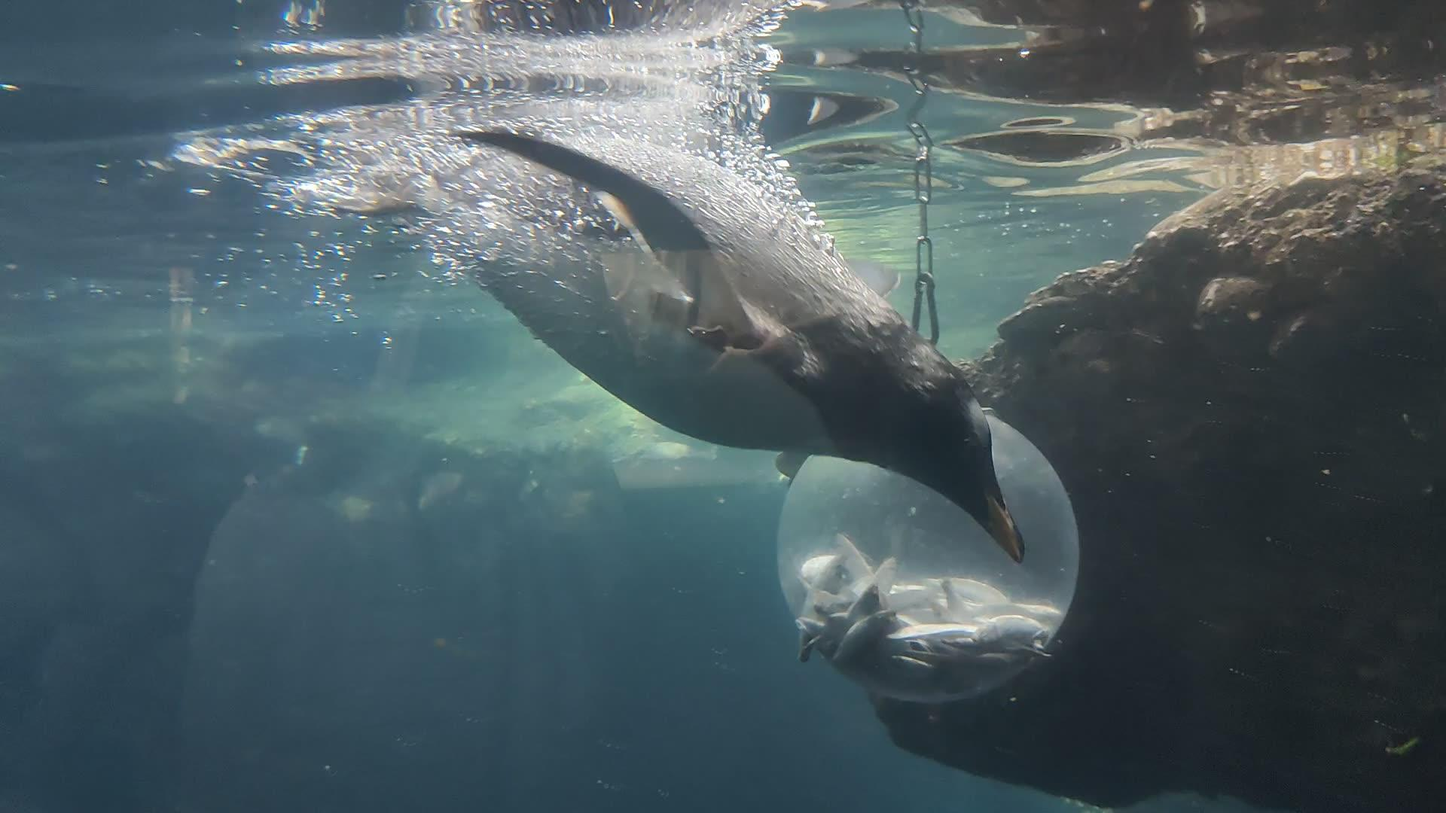apple: (327, 130, 1026, 565)
